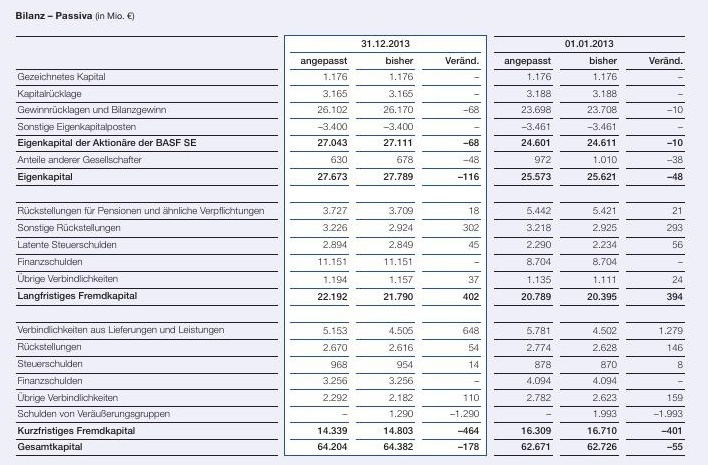table: (0, 0, 708, 465)
